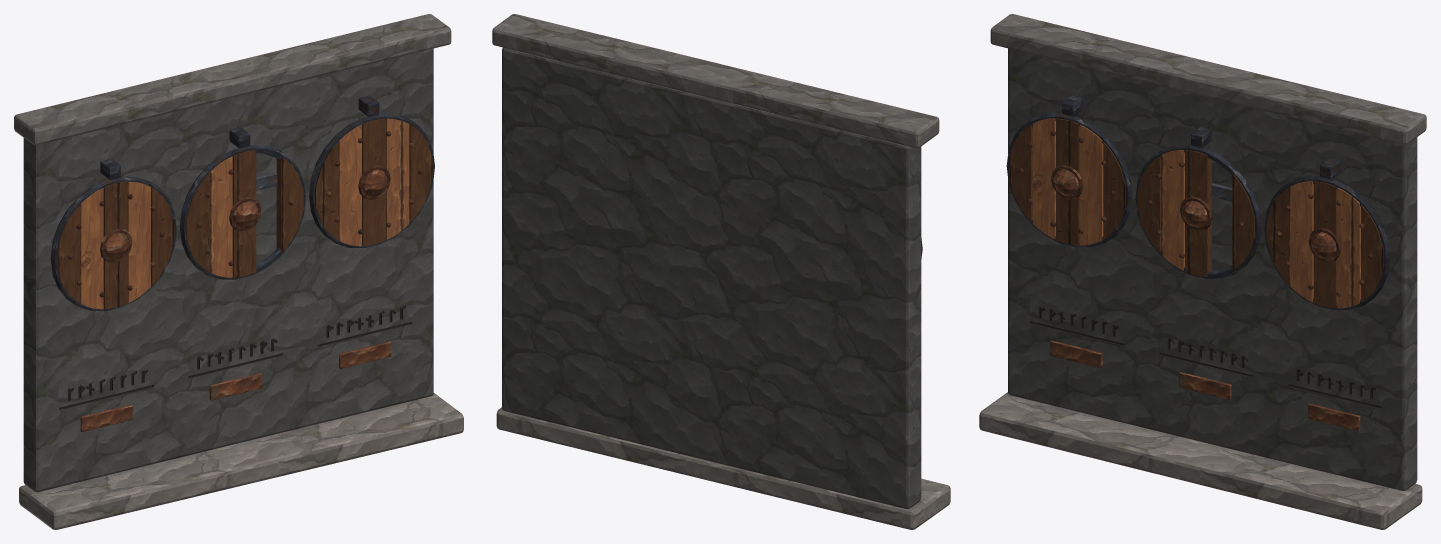
The model's file is th_shield_wall.glb.
3 renders of one model, left to right at view 1: azimuth 30°, elevation 25°; view 2: azimuth 150°, elevation 25°; view 3: azimuth 330°, elevation 25°, orthographic. The views are drawn at different scales.
Parts seen in each view (by area): view 1: model; view 2: model; view 3: model.
Boxes of the visible parts, x1,y1,x2,y2 form: model: (14, 14, 463, 529); model: (492, 14, 950, 529); model: (979, 14, 1426, 529).
Size of the model in its own units: 1.78 by 1.59 by 0.2885.
10 materials, 9 textured.
